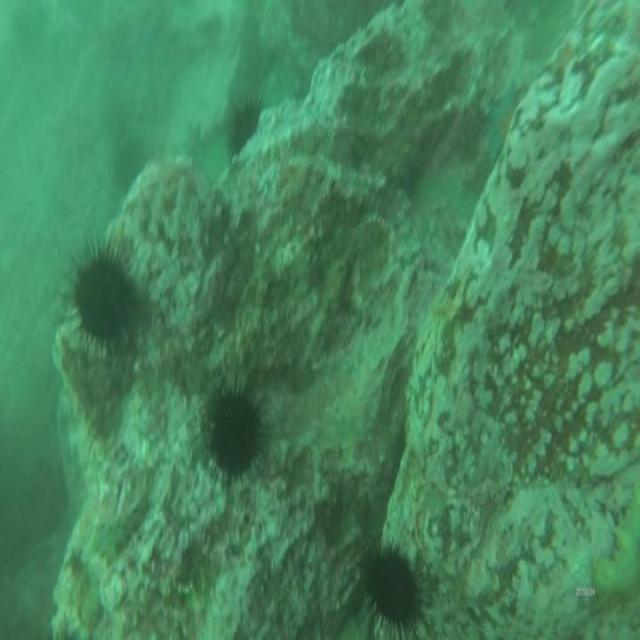echinus: (58, 234, 144, 362), (197, 368, 271, 492), (352, 529, 431, 640), (221, 93, 263, 168)
starfish: (484, 80, 518, 162)
